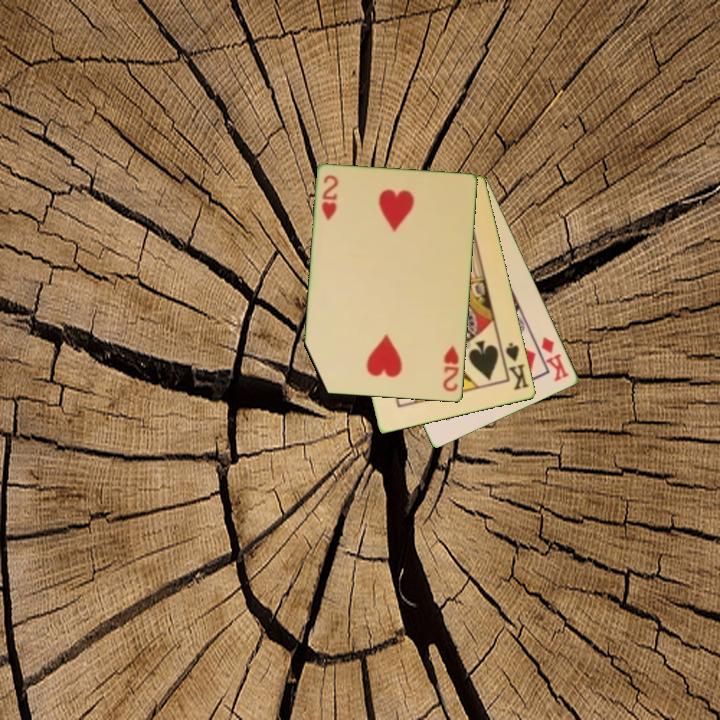2h: (318, 171, 342, 224), (440, 342, 462, 395)
Kd: (538, 333, 572, 385)
Ks: (498, 339, 532, 393)
